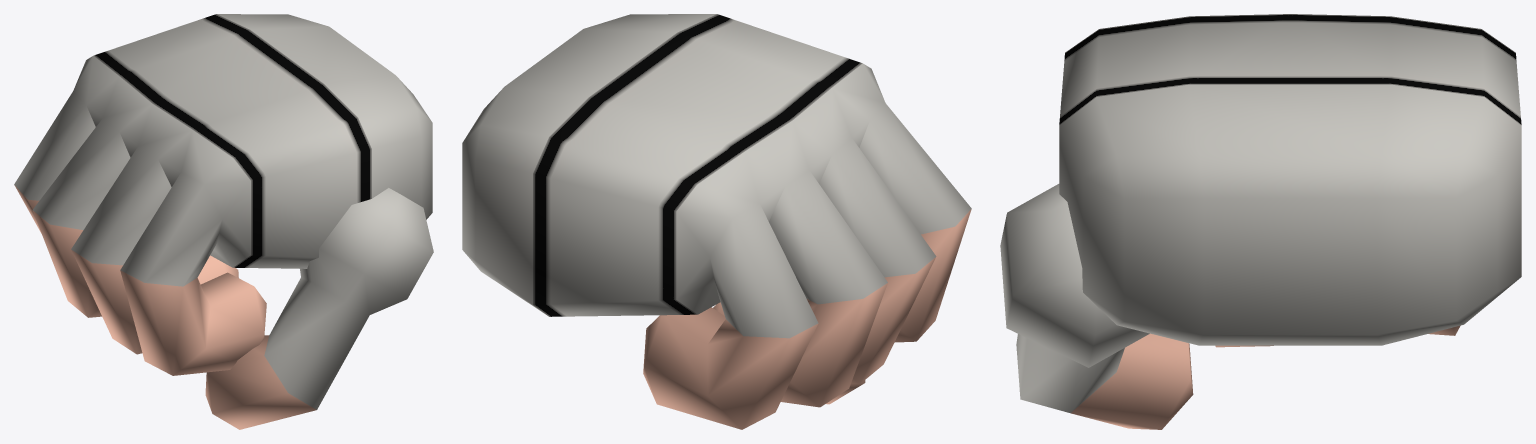
3 views of the same model, side by side, from view 1: azimuth 30°, elevation 25°; view 2: azimuth 150°, elevation 25°; view 3: azimuth 270°, elevation 25° (orthographic). The views are drawn at different scales.
Parts seen in each view (by area): view 1: Joint_0_Object_0; view 2: Joint_0_Object_0; view 3: Joint_0_Object_0.
Boxes of the visible parts, x1,y1,x2,y2 form: Joint_0_Object_0: (14, 14, 433, 429); Joint_0_Object_0: (462, 14, 971, 429); Joint_0_Object_0: (1000, 14, 1521, 429).
Size of the model in its own units: 16.54 by 14.92 by 16.98.
1 material, 1 textured.
